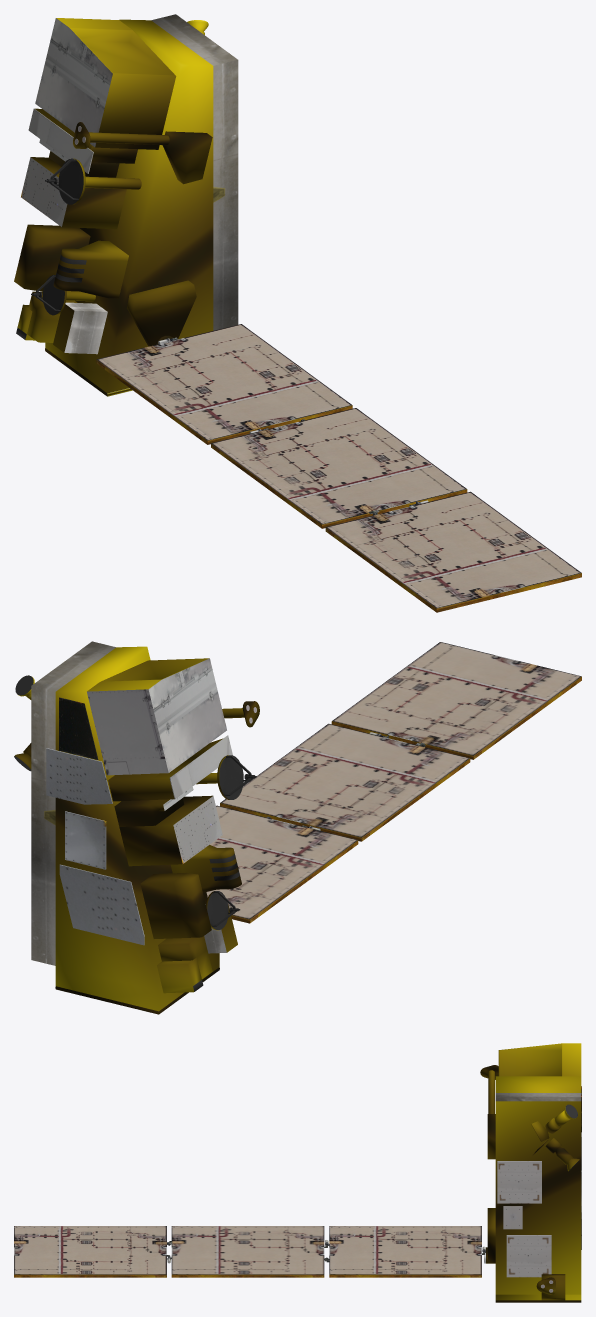
The model's file is Suomi NPP.glb.
3 renders of one model, top to bottom at view 1: azimuth 30°, elevation 25°; view 2: azimuth 150°, elevation 25°; view 3: azimuth 270°, elevation 25°, orthographic. The views are drawn at different scales.
Visible parts, largest first — view 1: tex_01, foil_gold, tex_02, AO_01; view 2: tex_01, foil_gold, tex_02, AO_01, foil_silver; view 3: tex_01, foil_gold, tex_02.
Part boxes in pixels (<box>): tex_01: <box>74,126,581,612</box>; foil_gold: <box>14,18,213,396</box>; tex_02: <box>21,14,238,354</box>; AO_01: <box>31,158,83,315</box>; tex_01: <box>46,642,581,945</box>; foil_gold: <box>15,646,259,1014</box>; tex_02: <box>31,641,232,965</box>; AO_01: <box>14,675,256,929</box>; foil_silver: <box>193,854,239,991</box>; tex_01: <box>14,1132,581,1292</box>; foil_gold: <box>480,1043,581,1302</box>; tex_02: <box>495,1086,581,1132</box>.
Bounding box in the file's own units: 2.57 × 4.18 × 8.96.
6 materials, 6 textured.
